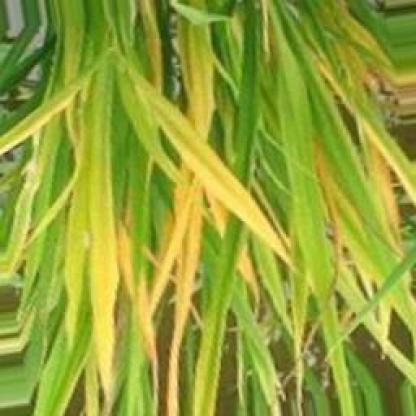Tungro: (152, 99, 303, 269), (162, 29, 221, 416), (75, 96, 130, 411), (343, 94, 416, 268), (3, 78, 89, 156)
